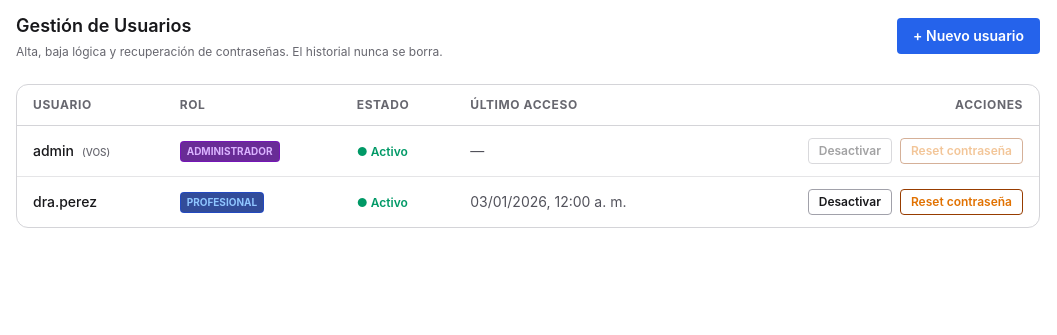
it: AdminUsersPanel › desactivar invoca set_user_active y muestra el aviso
The width and height of the screenshot is (1057, 335).
expect the text "dra.perez" is shown: met, box [17,176,164,227]
Click the button "Desactivar" in the row of "dra.perez".
click(850, 202)  # box [808,189,892,215]
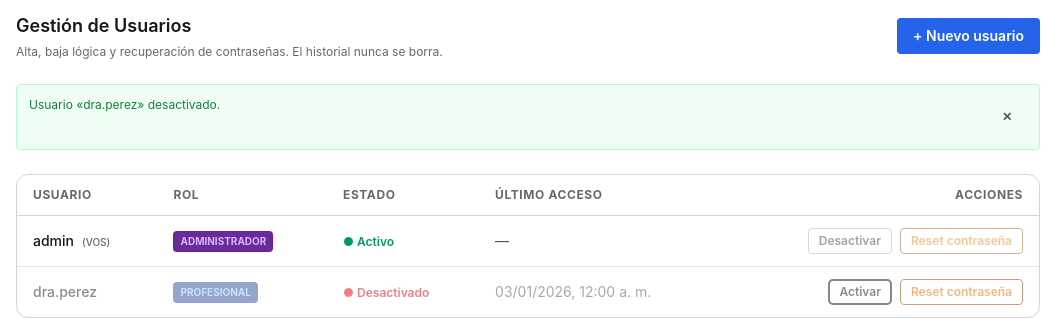
expect the text "Usuario «dra.perez» desactivado." is shown: met, box [29,97,220,112]
